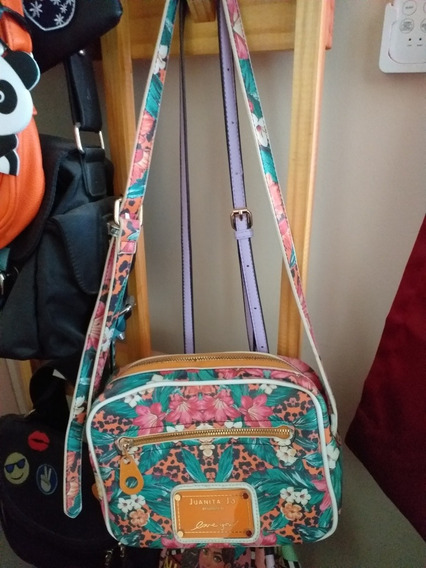cartera: (54, 346, 352, 550)
